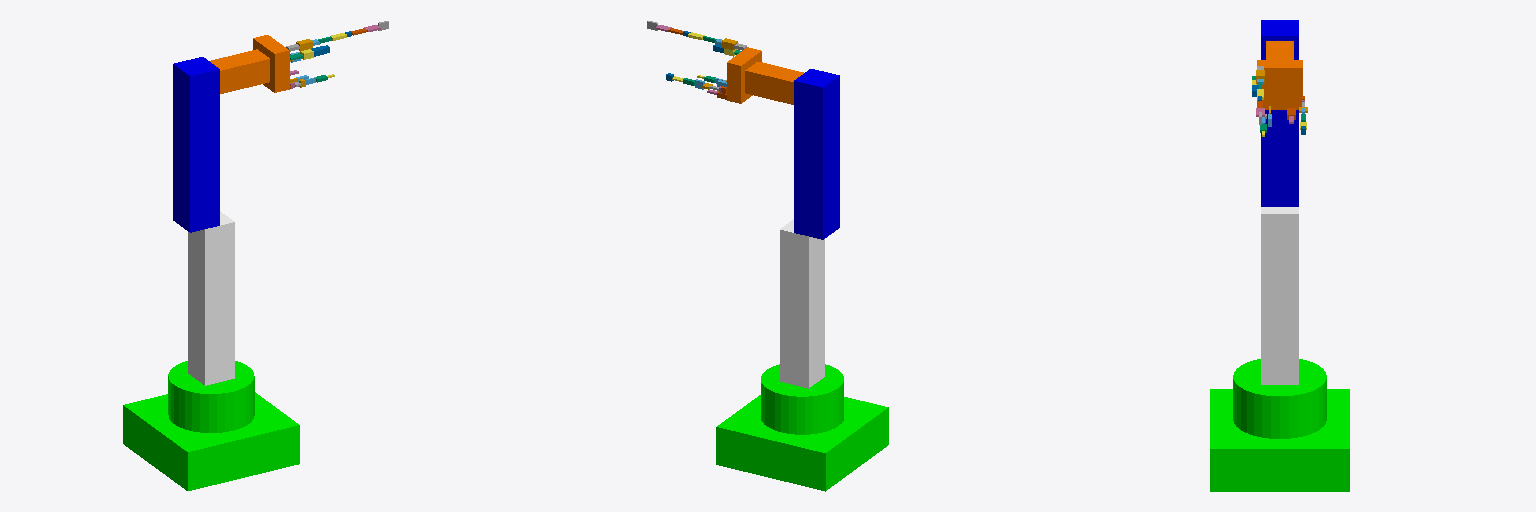
--- Render facts (derived) ---
3 views of the same robot in one strip: view 1: azimuth 30°, elevation 25°; view 2: azimuth 150°, elevation 25°; view 3: azimuth 270°, elevation 25° (orthographic).
Robot: robot — 36 links, 35 joints (32 revolute, 1 continuous, 2 fixed); root link base_link; default pose: every joint at zero.
Visible links, largest first — view 1: base_link, arm_link, support_link, wrist_link, palm_link; view 2: base_link, arm_link, support_link, wrist_link, palm_link; view 3: base_link, support_link, arm_link, palm_link, wrist_link.
Boxes of the visible links, box(x1,y1,x2,y2) form: base_link: box(123, 361, 299, 490); arm_link: box(173, 57, 219, 232); support_link: box(188, 211, 234, 385); wrist_link: box(210, 49, 269, 93); palm_link: box(253, 35, 289, 92); base_link: box(716, 364, 888, 491); arm_link: box(794, 69, 839, 239); support_link: box(780, 219, 824, 388); wrist_link: box(745, 62, 803, 104); palm_link: box(727, 47, 761, 103); base_link: box(1210, 359, 1349, 491); support_link: box(1261, 207, 1298, 384); arm_link: box(1261, 20, 1298, 206); palm_link: box(1257, 60, 1302, 109); wrist_link: box(1266, 41, 1293, 59).
Bounding box of the posed robot: 1.5 × 0.75 × 2.55 m (x, y, z).
Geometry: primitives only (box / cylinder / sphere), no mesh files.

URDF robot description (robot):
<?xml version='1.0' encoding='utf-8'?>
<robot name="robot">
  <link name="base_link">
    <visual>
      <origin xyz="0 0 0.125" rpy="0 0 0" />
      <geometry>
        <box size="0.75 0.75 0.25" />
      </geometry>
      <material name="green" />
    </visual>
    <visual>
      <origin xyz="0 0 0.375" rpy="0 0 0" />
      <geometry>
        <cylinder length="0.25" radius="0.25" />
      </geometry>
      <material name="green">
        <color rgba="0 1 0 1" />
      </material>
    </visual>
    <collision>
      <geometry>
        <box size="0.75 0.75 0.5" />
      </geometry>
    </collision>
    <inertial>
      <mass value="0.5" />
      <inertia ixx="0.034" ixy="0.0" ixz="0.0" iyy="0.034" iyz="0.0" izz="0.034" />
    </inertial>
  </link>
  <link name="support_link">
    <visual>
      <origin xyz="0 0 0.5" rpy="0 0 0" />
      <geometry>
        <box size="0.2 0.2 1" />
      </geometry>
      <material name="white">
        <color rgba="1 1 1 1" />
      </material>
    </visual>
    <collision>
      <geometry>
        <box size="0.2 0.2 1" />
      </geometry>
    </collision>
    <inertial>
      <mass value="0.1" />
      <inertia ixx="0.01" ixy="0.0" ixz="0.0" iyy="0.01" iyz="0.0" izz="0.01" />
    </inertial>
  </link>
  <joint name="support_joint" type="continuous">
    <origin xyz="0 0 0.5" rpy="0 0 0" />
    <parent link="base_link" />
    <child link="support_link" />
    <axis xyz="0 0 1" />
  </joint>
  <link name="arm_link">
    <visual>
      <origin xyz="0 0 0.5" rpy="0 0 0" />
      <geometry>
        <box size="0.2 0.2 1" />
      </geometry>
      <material name="blue">
        <color rgba="0 0 1 1" />
      </material>
    </visual>
    <collision>
      <geometry>
        <box size="0.2 0.2 1" />
      </geometry>
    </collision>
    <inertial>
      <mass value="0.1" />
      <inertia ixx="0.01" ixy="0.0" ixz="0.0" iyy="0.01" iyz="0.0" izz="0.01" />
    </inertial>
  </link>
  <joint name="arm_joint" type="revolute">
    <origin xyz="-0.1 0 1" rpy="0 0 0" />
    <parent link="support_link" />
    <child link="arm_link" />
    <axis xyz="0 1 0" />
    <limit lower="-3.14" upper="3.14" effort="1.0" velocity="1.0" />
  </joint>
  <link name="wrist_link">
    <visual>
      <origin xyz="0 0 0.25" rpy="0 0 0" />
      <geometry>
        <box size="0.15 0.15 0.5" />
      </geometry>
      <material name="orange">
        <color rgba="1 0.5 0 1" />
      </material>
    </visual>
    <collision>
      <geometry>
        <box size="0.15 0.15 0.5" />
      </geometry>
    </collision>
    <inertial>
      <mass value="0.1" />
      <inertia ixx="0.01" ixy="0.0" ixz="0.0" iyy="0.01" iyz="0.0" izz="0.01" />
    </inertial>
  </link>
  <joint name="wrist_joint" type="fixed">
    <origin xyz="0 0 0.9" rpy="0 1.571 0" />
    <parent link="arm_link" />
    <child link="wrist_link" />
  </joint>
  <link name="palm_link">
    <visual>
      <origin xyz="0 0 0.05" rpy="0 0 0" />
      <geometry>
        <box size="0.25 0.25 0.1" />
      </geometry>
      <material name="orange" />
    </visual>
    <collision>
      <geometry>
        <box size="0.25 0.25 0.1" />
      </geometry>
    </collision>
    <inertial>
      <mass value="0.1" />
      <inertia ixx="0.01" ixy="0.0" ixz="0.0" iyy="0.01" iyz="0.0" izz="0.01" />
    </inertial>
  </link>
  <joint name="palm_joint" type="fixed">
    <origin xyz="0 0 0.45" rpy="0 0 0" />
    <parent link="wrist_link" />
    <child link="palm_link" />
  </joint>
  <link name="finger_link_0_0">
    <visual>
      <origin xyz="0 0 0.0165" rpy="0 0 0" />
      <geometry>
        <box size="0.039 0.019 0.033" />
      </geometry>
    </visual>
    <collision>
      <geometry>
        <box size="0.039 0.019 0.033" />
      </geometry>
    </collision>
    <inertial>
      <mass value="0.007" />
      <inertia ixx="0.0" iyy="0.0" izz="0.0" ixy="0" ixz="0" iyz="0" />
    </inertial>
  </link>
  <joint name="finger_joint_palm_link_to_finger_link_0_0" type="revolute">
    <origin xyz="0.062 0.125 0.1" rpy="0 0 0" />
    <parent link="palm_link" />
    <child link="finger_link_0_0" />
    <axis xyz="-1.0 0.0 0.0" />
    <limit lower="-3.142" upper="3.142" effort="10" velocity="10" />
  </joint>
  <link name="finger_link_0_1">
    <visual>
      <origin xyz="0 0 0.0075" rpy="0 0 0" />
      <geometry>
        <box size="0.03 0.019 0.015" />
      </geometry>
    </visual>
    <collision>
      <geometry>
        <box size="0.03 0.019 0.015" />
      </geometry>
    </collision>
    <inertial>
      <mass value="0.003" />
      <inertia ixx="0.0" iyy="0.0" izz="0.0" ixy="0" ixz="0" iyz="0" />
    </inertial>
  </link>
  <joint name="finger_joint_finger_link_0_0_to_finger_link_0_1" type="revolute">
    <origin xyz="0.0 0.0 0.033" rpy="0 0 0" />
    <parent link="finger_link_0_0" />
    <child link="finger_link_0_1" />
    <axis xyz="1.0 0.0 0.0" />
    <limit lower="-3.142" upper="3.142" effort="10" velocity="10" />
  </joint>
  <link name="finger_link_0_2">
    <visual>
      <origin xyz="0 0 0.0305" rpy="0 0 0" />
      <geometry>
        <box size="0.014 0.02 0.061" />
      </geometry>
    </visual>
    <collision>
      <geometry>
        <box size="0.014 0.02 0.061" />
      </geometry>
    </collision>
    <inertial>
      <mass value="0.005" />
      <inertia ixx="0.0" iyy="0.0" izz="0.0" ixy="0" ixz="0" iyz="0" />
    </inertial>
  </link>
  <joint name="finger_joint_finger_link_0_1_to_finger_link_0_2" type="revolute">
    <origin xyz="0.0 0.0 0.015" rpy="0 0 0" />
    <parent link="finger_link_0_1" />
    <child link="finger_link_0_2" />
    <axis xyz="1.0 0.0 0.0" />
    <limit lower="-3.142" upper="3.142" effort="10" velocity="10" />
  </joint>
  <link name="finger_link_0_3">
    <visual>
      <origin xyz="0 0 0.022" rpy="0 0 0" />
      <geometry>
        <box size="0.015 0.048 0.044" />
      </geometry>
    </visual>
    <collision>
      <geometry>
        <box size="0.015 0.048 0.044" />
      </geometry>
    </collision>
    <inertial>
      <mass value="0.01" />
      <inertia ixx="0.0" iyy="0.0" izz="0.0" ixy="0" ixz="0" iyz="0" />
    </inertial>
  </link>
  <joint name="finger_joint_finger_link_0_2_to_finger_link_0_3" type="revolute">
    <origin xyz="0.0 0.0 0.061" rpy="0 0 0" />
    <parent link="finger_link_0_2" />
    <child link="finger_link_0_3" />
    <axis xyz="1.0 0.0 0.0" />
    <limit lower="-3.142" upper="3.142" effort="10" velocity="10" />
  </joint>
  <link name="finger_link_0_4">
    <visual>
      <origin xyz="0 0 0.0305" rpy="0 0 0" />
      <geometry>
        <box size="0.049 0.019 0.061" />
      </geometry>
    </visual>
    <collision>
      <geometry>
        <box size="0.049 0.019 0.061" />
      </geometry>
    </collision>
    <inertial>
      <mass value="0.017" />
      <inertia ixx="0.0" iyy="0.0" izz="0.0" ixy="0" ixz="0" iyz="0" />
    </inertial>
  </link>
  <joint name="finger_joint_finger_link_0_3_to_finger_link_0_4" type="revolute">
    <origin xyz="0.0 0.0 0.044" rpy="0 0 0" />
    <parent link="finger_link_0_3" />
    <child link="finger_link_0_4" />
    <axis xyz="0.0 1.0 0.0" />
    <limit lower="-3.142" upper="3.142" effort="10" velocity="10" />
  </joint>
  <link name="finger_link_0_5">
    <visual>
      <origin xyz="0 0 0.0385" rpy="0 0 0" />
      <geometry>
        <box size="0.028 0.025 0.077" />
      </geometry>
    </visual>
    <collision>
      <geometry>
        <box size="0.028 0.025 0.077" />
      </geometry>
    </collision>
    <inertial>
      <mass value="0.016" />
      <inertia ixx="0.0" iyy="0.0" izz="0.0" ixy="0" ixz="0" iyz="0" />
    </inertial>
  </link>
  <joint name="finger_joint_finger_link_0_4_to_finger_link_0_5" type="revolute">
    <origin xyz="0.0 0.0 0.061" rpy="0 0 0" />
    <parent link="finger_link_0_4" />
    <child link="finger_link_0_5" />
    <axis xyz="0.0 1.0 0.0" />
    <limit lower="-3.142" upper="3.142" effort="10" velocity="10" />
  </joint>
  <link name="finger_link_0_6">
    <visual>
      <origin xyz="0 0 0.038" rpy="0 0 0" />
      <geometry>
        <box size="0.01 0.035 0.076" />
      </geometry>
    </visual>
    <collision>
      <geometry>
        <box size="0.01 0.035 0.076" />
      </geometry>
    </collision>
    <inertial>
      <mass value="0.008" />
      <inertia ixx="0.0" iyy="0.0" izz="0.0" ixy="0" ixz="0" iyz="0" />
    </inertial>
  </link>
  <joint name="finger_joint_finger_link_0_5_to_finger_link_0_6" type="revolute">
    <origin xyz="0.0 0.0 0.077" rpy="0 0 0" />
    <parent link="finger_link_0_5" />
    <child link="finger_link_0_6" />
    <axis xyz="0.0 1.0 0.0" />
    <limit lower="-3.142" upper="3.142" effort="10" velocity="10" />
  </joint>
  <link name="finger_link_0_7">
    <visual>
      <origin xyz="0 0 0.0195" rpy="0 0 0" />
      <geometry>
        <box size="0.038 0.027 0.039" />
      </geometry>
    </visual>
    <collision>
      <geometry>
        <box size="0.038 0.027 0.039" />
      </geometry>
    </collision>
    <inertial>
      <mass value="0.012" />
      <inertia ixx="0.0" iyy="0.0" izz="0.0" ixy="0" ixz="0" iyz="0" />
    </inertial>
  </link>
  <joint name="finger_joint_finger_link_0_6_to_finger_link_0_7" type="revolute">
    <origin xyz="0.0 0.0 0.076" rpy="0 0 0" />
    <parent link="finger_link_0_6" />
    <child link="finger_link_0_7" />
    <axis xyz="1.0 0.0 0.0" />
    <limit lower="-3.142" upper="3.142" effort="10" velocity="10" />
  </joint>
  <link name="finger_link_1_0">
    <visual>
      <origin xyz="0 0 0.0445" rpy="0 0 0" />
      <geometry>
        <box size="0.033 0.048 0.089" />
      </geometry>
    </visual>
    <collision>
      <geometry>
        <box size="0.033 0.048 0.089" />
      </geometry>
    </collision>
    <inertial>
      <mass value="0.042" />
      <inertia ixx="0.0" iyy="0.0" izz="0.0" ixy="0" ixz="0" iyz="0" />
    </inertial>
  </link>
  <joint name="finger_joint_palm_link_to_finger_link_1_0" type="revolute">
    <origin xyz="0.125 0.063 0.1" rpy="0 0 0" />
    <parent link="palm_link" />
    <child link="finger_link_1_0" />
    <axis xyz="0.0 1.0 0.0" />
    <limit lower="-3.142" upper="3.142" effort="10" velocity="10" />
  </joint>
  <link name="finger_link_1_1">
    <visual>
      <origin xyz="0 0 0.0365" rpy="0 0 0" />
      <geometry>
        <box size="0.013 0.026 0.073" />
      </geometry>
    </visual>
    <collision>
      <geometry>
        <box size="0.013 0.026 0.073" />
      </geometry>
    </collision>
    <inertial>
      <mass value="0.007" />
      <inertia ixx="0.0" iyy="0.0" izz="0.0" ixy="0" ixz="0" iyz="0" />
    </inertial>
  </link>
  <joint name="finger_joint_finger_link_1_0_to_finger_link_1_1" type="revolute">
    <origin xyz="0.0 0.0 0.089" rpy="0 0 0" />
    <parent link="finger_link_1_0" />
    <child link="finger_link_1_1" />
    <axis xyz="0.0 1.0 0.0" />
    <limit lower="-3.142" upper="3.142" effort="10" velocity="10" />
  </joint>
  <link name="finger_link_2_0">
    <visual>
      <origin xyz="0 0 0.0345" rpy="0 0 0" />
      <geometry>
        <box size="0.021 0.036 0.069" />
      </geometry>
    </visual>
    <collision>
      <geometry>
        <box size="0.021 0.036 0.069" />
      </geometry>
    </collision>
    <inertial>
      <mass value="0.016" />
      <inertia ixx="0.0" iyy="0.0" izz="0.0" ixy="0" ixz="0" iyz="0" />
    </inertial>
  </link>
  <joint name="finger_joint_palm_link_to_finger_link_2_0" type="revolute">
    <origin xyz="-0.125 -0.105 0.1" rpy="0 0 0" />
    <parent link="palm_link" />
    <child link="finger_link_2_0" />
    <axis xyz="0.0 -1.0 0.0" />
    <limit lower="-3.142" upper="3.142" effort="10" velocity="10" />
  </joint>
  <link name="finger_link_2_1">
    <visual>
      <origin xyz="0 0 0.0425" rpy="0 0 0" />
      <geometry>
        <box size="0.043 0.046 0.085" />
      </geometry>
    </visual>
    <collision>
      <geometry>
        <box size="0.043 0.046 0.085" />
      </geometry>
    </collision>
    <inertial>
      <mass value="0.05" />
      <inertia ixx="0.0" iyy="0.0" izz="0.0" ixy="0" ixz="0" iyz="0" />
    </inertial>
  </link>
  <joint name="finger_joint_finger_link_2_0_to_finger_link_2_1" type="revolute">
    <origin xyz="0.0 0.0 0.069" rpy="0 0 0" />
    <parent link="finger_link_2_0" />
    <child link="finger_link_2_1" />
    <axis xyz="1.0 0.0 0.0" />
    <limit lower="-3.142" upper="3.142" effort="10" velocity="10" />
  </joint>
  <link name="finger_link_2_2">
    <visual>
      <origin xyz="0 0 0.0235" rpy="0 0 0" />
      <geometry>
        <box size="0.018 0.04 0.047" />
      </geometry>
    </visual>
    <collision>
      <geometry>
        <box size="0.018 0.04 0.047" />
      </geometry>
    </collision>
    <inertial>
      <mass value="0.01" />
      <inertia ixx="0.0" iyy="0.0" izz="0.0" ixy="0" ixz="0" iyz="0" />
    </inertial>
  </link>
  <joint name="finger_joint_finger_link_2_1_to_finger_link_2_2" type="revolute">
    <origin xyz="0.0 0.0 0.085" rpy="0 0 0" />
    <parent link="finger_link_2_1" />
    <child link="finger_link_2_2" />
    <axis xyz="1.0 0.0 0.0" />
    <limit lower="-3.142" upper="3.142" effort="10" velocity="10" />
  </joint>
  <link name="finger_link_2_3">
    <visual>
      <origin xyz="0 0 0.045" rpy="0 0 0" />
      <geometry>
        <box size="0.022 0.016 0.09" />
      </geometry>
    </visual>
    <collision>
      <geometry>
        <box size="0.022 0.016 0.09" />
      </geometry>
    </collision>
    <inertial>
      <mass value="0.01" />
      <inertia ixx="0.0" iyy="0.0" izz="0.0" ixy="0" ixz="0" iyz="0" />
    </inertial>
  </link>
  <joint name="finger_joint_finger_link_2_2_to_finger_link_2_3" type="revolute">
    <origin xyz="0.0 0.0 0.047" rpy="0 0 0" />
    <parent link="finger_link_2_2" />
    <child link="finger_link_2_3" />
    <axis xyz="1.0 0.0 0.0" />
    <limit lower="-3.142" upper="3.142" effort="10" velocity="10" />
  </joint>
  <link name="finger_link_2_4">
    <visual>
      <origin xyz="0 0 0.0475" rpy="0 0 0" />
      <geometry>
        <box size="0.018 0.038 0.095" />
      </geometry>
    </visual>
    <collision>
      <geometry>
        <box size="0.018 0.038 0.095" />
      </geometry>
    </collision>
    <inertial>
      <mass value="0.019" />
      <inertia ixx="0.0" iyy="0.0" izz="0.0" ixy="0" ixz="0" iyz="0" />
    </inertial>
  </link>
  <joint name="finger_joint_finger_link_2_3_to_finger_link_2_4" type="revolute">
    <origin xyz="0.0 0.0 0.09" rpy="0 0 0" />
    <parent link="finger_link_2_3" />
    <child link="finger_link_2_4" />
    <axis xyz="0.0 1.0 0.0" />
    <limit lower="-3.142" upper="3.142" effort="10" velocity="10" />
  </joint>
  <link name="finger_link_2_5">
    <visual>
      <origin xyz="0 0 0.0195" rpy="0 0 0" />
      <geometry>
        <box size="0.024 0.021 0.039" />
      </geometry>
    </visual>
    <collision>
      <geometry>
        <box size="0.024 0.021 0.039" />
      </geometry>
    </collision>
    <inertial>
      <mass value="0.006" />
      <inertia ixx="0.0" iyy="0.0" izz="0.0" ixy="0" ixz="0" iyz="0" />
    </inertial>
  </link>
  <joint name="finger_joint_finger_link_2_4_to_finger_link_2_5" type="revolute">
    <origin xyz="0.0 0.0 0.095" rpy="0 0 0" />
    <parent link="finger_link_2_4" />
    <child link="finger_link_2_5" />
    <axis xyz="1.0 0.0 0.0" />
    <limit lower="-3.142" upper="3.142" effort="10" velocity="10" />
  </joint>
  <link name="finger_link_2_6">
    <visual>
      <origin xyz="0 0 0.0485" rpy="0 0 0" />
      <geometry>
        <box size="0.012 0.034 0.097" />
      </geometry>
    </visual>
    <collision>
      <geometry>
        <box size="0.012 0.034 0.097" />
      </geometry>
    </collision>
    <inertial>
      <mass value="0.012" />
      <inertia ixx="0.0" iyy="0.0" izz="0.0" ixy="0" ixz="0" iyz="0" />
    </inertial>
  </link>
  <joint name="finger_joint_finger_link_2_5_to_finger_link_2_6" type="revolute">
    <origin xyz="0.0 0.0 0.039" rpy="0 0 0" />
    <parent link="finger_link_2_5" />
    <child link="finger_link_2_6" />
    <axis xyz="1.0 0.0 0.0" />
    <limit lower="-3.142" upper="3.142" effort="10" velocity="10" />
  </joint>
  <link name="finger_link_2_7">
    <visual>
      <origin xyz="0 0 0.042" rpy="0 0 0" />
      <geometry>
        <box size="0.012 0.049 0.084" />
      </geometry>
    </visual>
    <collision>
      <geometry>
        <box size="0.012 0.049 0.084" />
      </geometry>
    </collision>
    <inertial>
      <mass value="0.015" />
      <inertia ixx="0.0" iyy="0.0" izz="0.0" ixy="0" ixz="0" iyz="0" />
    </inertial>
  </link>
  <joint name="finger_joint_finger_link_2_6_to_finger_link_2_7" type="revolute">
    <origin xyz="0.0 0.0 0.097" rpy="0 0 0" />
    <parent link="finger_link_2_6" />
    <child link="finger_link_2_7" />
    <axis xyz="0.0 1.0 0.0" />
    <limit lower="-3.142" upper="3.142" effort="10" velocity="10" />
  </joint>
  <link name="finger_link_2_8">
    <visual>
      <origin xyz="0 0 0.033" rpy="0 0 0" />
      <geometry>
        <box size="0.047 0.015 0.066" />
      </geometry>
    </visual>
    <collision>
      <geometry>
        <box size="0.047 0.015 0.066" />
      </geometry>
    </collision>
    <inertial>
      <mass value="0.014" />
      <inertia ixx="0.0" iyy="0.0" izz="0.0" ixy="0" ixz="0" iyz="0" />
    </inertial>
  </link>
  <joint name="finger_joint_finger_link_2_7_to_finger_link_2_8" type="revolute">
    <origin xyz="0.0 0.0 0.084" rpy="0 0 0" />
    <parent link="finger_link_2_7" />
    <child link="finger_link_2_8" />
    <axis xyz="1.0 0.0 0.0" />
    <limit lower="-3.142" upper="3.142" effort="10" velocity="10" />
  </joint>
  <link name="finger_link_3_0">
    <visual>
      <origin xyz="0 0 0.0435" rpy="0 0 0" />
      <geometry>
        <box size="0.046 0.011 0.087" />
      </geometry>
    </visual>
    <collision>
      <geometry>
        <box size="0.046 0.011 0.087" />
      </geometry>
    </collision>
    <inertial>
      <mass value="0.013" />
      <inertia ixx="0.0" iyy="0.0" izz="0.0" ixy="0" ixz="0" iyz="0" />
    </inertial>
  </link>
  <joint name="finger_joint_palm_link_to_finger_link_3_0" type="revolute">
    <origin xyz="0.125 -0.054 0.1" rpy="0 0 0" />
    <parent link="palm_link" />
    <child link="finger_link_3_0" />
    <axis xyz="0.0 1.0 0.0" />
    <limit lower="-3.142" upper="3.142" effort="10" velocity="10" />
  </joint>
  <link name="finger_link_3_1">
    <visual>
      <origin xyz="0 0 0.0375" rpy="0 0 0" />
      <geometry>
        <box size="0.044 0.024 0.075" />
      </geometry>
    </visual>
    <collision>
      <geometry>
        <box size="0.044 0.024 0.075" />
      </geometry>
    </collision>
    <inertial>
      <mass value="0.024" />
      <inertia ixx="0.0" iyy="0.0" izz="0.0" ixy="0" ixz="0" iyz="0" />
    </inertial>
  </link>
  <joint name="finger_joint_finger_link_3_0_to_finger_link_3_1" type="revolute">
    <origin xyz="0.0 0.0 0.087" rpy="0 0 0" />
    <parent link="finger_link_3_0" />
    <child link="finger_link_3_1" />
    <axis xyz="1.0 0.0 0.0" />
    <limit lower="-3.142" upper="3.142" effort="10" velocity="10" />
  </joint>
  <link name="finger_link_4_0">
    <visual>
      <origin xyz="0 0 0.041" rpy="0 0 0" />
      <geometry>
        <box size="0.011 0.044 0.082" />
      </geometry>
    </visual>
    <collision>
      <geometry>
        <box size="0.011 0.044 0.082" />
      </geometry>
    </collision>
    <inertial>
      <mass value="0.012" />
      <inertia ixx="0.0" iyy="0.0" izz="0.0" ixy="0" ixz="0" iyz="0" />
    </inertial>
  </link>
  <joint name="finger_joint_palm_link_to_finger_link_4_0" type="revolute">
    <origin xyz="-0.074 -0.125 0.1" rpy="0 0 0" />
    <parent link="palm_link" />
    <child link="finger_link_4_0" />
    <axis xyz="1.0 0.0 0.0" />
    <limit lower="-3.142" upper="3.142" effort="10" velocity="10" />
  </joint>
  <link name="finger_link_4_1">
    <visual>
      <origin xyz="0 0 0.032" rpy="0 0 0" />
      <geometry>
        <box size="0.04 0.05 0.064" />
      </geometry>
    </visual>
    <collision>
      <geometry>
        <box size="0.04 0.05 0.064" />
      </geometry>
    </collision>
    <inertial>
      <mass value="0.038" />
      <inertia ixx="0.0" iyy="0.0" izz="0.0" ixy="0" ixz="0" iyz="0" />
    </inertial>
  </link>
  <joint name="finger_joint_finger_link_4_0_to_finger_link_4_1" type="revolute">
    <origin xyz="0.0 0.0 0.082" rpy="0 0 0" />
    <parent link="finger_link_4_0" />
    <child link="finger_link_4_1" />
    <axis xyz="1.0 0.0 0.0" />
    <limit lower="-3.142" upper="3.142" effort="10" velocity="10" />
  </joint>
  <link name="finger_link_4_2">
    <visual>
      <origin xyz="0 0 0.0395" rpy="0 0 0" />
      <geometry>
        <box size="0.034 0.045 0.079" />
      </geometry>
    </visual>
    <collision>
      <geometry>
        <box size="0.034 0.045 0.079" />
      </geometry>
    </collision>
    <inertial>
      <mass value="0.036" />
      <inertia ixx="0.0" iyy="0.0" izz="0.0" ixy="0" ixz="0" iyz="0" />
    </inertial>
  </link>
  <joint name="finger_joint_finger_link_4_1_to_finger_link_4_2" type="revolute">
    <origin xyz="0.0 0.0 0.064" rpy="0 0 0" />
    <parent link="finger_link_4_1" />
    <child link="finger_link_4_2" />
    <axis xyz="1.0 0.0 0.0" />
    <limit lower="-3.142" upper="3.142" effort="10" velocity="10" />
  </joint>
  <link name="finger_link_5_0">
    <visual>
      <origin xyz="0 0 0.0135" rpy="0 0 0" />
      <geometry>
        <box size="0.022 0.011 0.027" />
      </geometry>
    </visual>
    <collision>
      <geometry>
        <box size="0.022 0.011 0.027" />
      </geometry>
    </collision>
    <inertial>
      <mass value="0.002" />
      <inertia ixx="0.0" iyy="0.0" izz="0.0" ixy="0" ixz="0" iyz="0" />
    </inertial>
  </link>
  <joint name="finger_joint_palm_link_to_finger_link_5_0" type="revolute">
    <origin xyz="0.125 -0.087 0.1" rpy="0 0 0" />
    <parent link="palm_link" />
    <child link="finger_link_5_0" />
    <axis xyz="0.0 1.0 0.0" />
    <limit lower="-3.142" upper="3.142" effort="10" velocity="10" />
  </joint>
  <link name="finger_link_5_1">
    <visual>
      <origin xyz="0 0 0.0145" rpy="0 0 0" />
      <geometry>
        <box size="0.032 0.011 0.029" />
      </geometry>
    </visual>
    <collision>
      <geometry>
        <box size="0.032 0.011 0.029" />
      </geometry>
    </collision>
    <inertial>
      <mass value="0.003" />
      <inertia ixx="0.0" iyy="0.0" izz="0.0" ixy="0" ixz="0" iyz="0" />
    </inertial>
  </link>
  <joint name="finger_joint_finger_link_5_0_to_finger_link_5_1" type="revolute">
    <origin xyz="0.0 0.0 0.027" rpy="0 0 0" />
    <parent link="finger_link_5_0" />
    <child link="finger_link_5_1" />
    <axis xyz="1.0 0.0 0.0" />
    <limit lower="-3.142" upper="3.142" effort="10" velocity="10" />
  </joint>
  <link name="finger_link_5_2">
    <visual>
      <origin xyz="0 0 0.017" rpy="0 0 0" />
      <geometry>
        <box size="0.014 0.033 0.034" />
      </geometry>
    </visual>
    <collision>
      <geometry>
        <box size="0.014 0.033 0.034" />
      </geometry>
    </collision>
    <inertial>
      <mass value="0.005" />
      <inertia ixx="0.0" iyy="0.0" izz="0.0" ixy="0" ixz="0" iyz="0" />
    </inertial>
  </link>
  <joint name="finger_joint_finger_link_5_1_to_finger_link_5_2" type="revolute">
    <origin xyz="0.0 0.0 0.029" rpy="0 0 0" />
    <parent link="finger_link_5_1" />
    <child link="finger_link_5_2" />
    <axis xyz="1.0 0.0 0.0" />
    <limit lower="-3.142" upper="3.142" effort="10" velocity="10" />
  </joint>
  <link name="finger_link_5_3">
    <visual>
      <origin xyz="0 0 0.016" rpy="0 0 0" />
      <geometry>
        <box size="0.04 0.027 0.032" />
      </geometry>
    </visual>
    <collision>
      <geometry>
        <box size="0.04 0.027 0.032" />
      </geometry>
    </collision>
    <inertial>
      <mass value="0.01" />
      <inertia ixx="0.0" iyy="0.0" izz="0.0" ixy="0" ixz="0" iyz="0" />
    </inertial>
  </link>
  <joint name="finger_joint_finger_link_5_2_to_finger_link_5_3" type="revolute">
    <origin xyz="0.0 0.0 0.034" rpy="0 0 0" />
    <parent link="finger_link_5_2" />
    <child link="finger_link_5_3" />
    <axis xyz="0.0 1.0 0.0" />
    <limit lower="-3.142" upper="3.142" effort="10" velocity="10" />
  </joint>
  <link name="finger_link_5_4">
    <visual>
      <origin xyz="0 0 0.0375" rpy="0 0 0" />
      <geometry>
        <box size="0.03 0.013 0.075" />
      </geometry>
    </visual>
    <collision>
      <geometry>
        <box size="0.03 0.013 0.075" />
      </geometry>
    </collision>
    <inertial>
      <mass value="0.009" />
      <inertia ixx="0.0" iyy="0.0" izz="0.0" ixy="0" ixz="0" iyz="0" />
    </inertial>
  </link>
  <joint name="finger_joint_finger_link_5_3_to_finger_link_5_4" type="revolute">
    <origin xyz="0.0 0.0 0.032" rpy="0 0 0" />
    <parent link="finger_link_5_3" />
    <child link="finger_link_5_4" />
    <axis xyz="0.0 1.0 0.0" />
    <limit lower="-3.142" upper="3.142" effort="10" velocity="10" />
  </joint>
  <link name="finger_link_5_5">
    <visual>
      <origin xyz="0 0 0.0345" rpy="0 0 0" />
      <geometry>
        <box size="0.02 0.036 0.069" />
      </geometry>
    </visual>
    <collision>
      <geometry>
        <box size="0.02 0.036 0.069" />
      </geometry>
    </collision>
    <inertial>
      <mass value="0.015" />
      <inertia ixx="0.0" iyy="0.0" izz="0.0" ixy="0" ixz="0" iyz="0" />
    </inertial>
  </link>
  <joint name="finger_joint_finger_link_5_4_to_finger_link_5_5" type="revolute">
    <origin xyz="0.0 0.0 0.075" rpy="0 0 0" />
    <parent link="finger_link_5_4" />
    <child link="finger_link_5_5" />
    <axis xyz="1.0 0.0 0.0" />
    <limit lower="-3.142" upper="3.142" effort="10" velocity="10" />
  </joint>
  <link name="finger_link_5_6">
    <visual>
      <origin xyz="0 0 0.027" rpy="0 0 0" />
      <geometry>
        <box size="0.011 0.014 0.054" />
      </geometry>
    </visual>
    <collision>
      <geometry>
        <box size="0.011 0.014 0.054" />
      </geometry>
    </collision>
    <inertial>
      <mass value="0.002" />
      <inertia ixx="0.0" iyy="0.0" izz="0.0" ixy="0" ixz="0" iyz="0" />
    </inertial>
  </link>
  <joint name="finger_joint_finger_link_5_5_to_finger_link_5_6" type="revolute">
    <origin xyz="0.0 0.0 0.069" rpy="0 0 0" />
    <parent link="finger_link_5_5" />
    <child link="finger_link_5_6" />
    <axis xyz="0.0 1.0 0.0" />
    <limit lower="-3.142" upper="3.142" effort="10" velocity="10" />
  </joint>
</robot>
